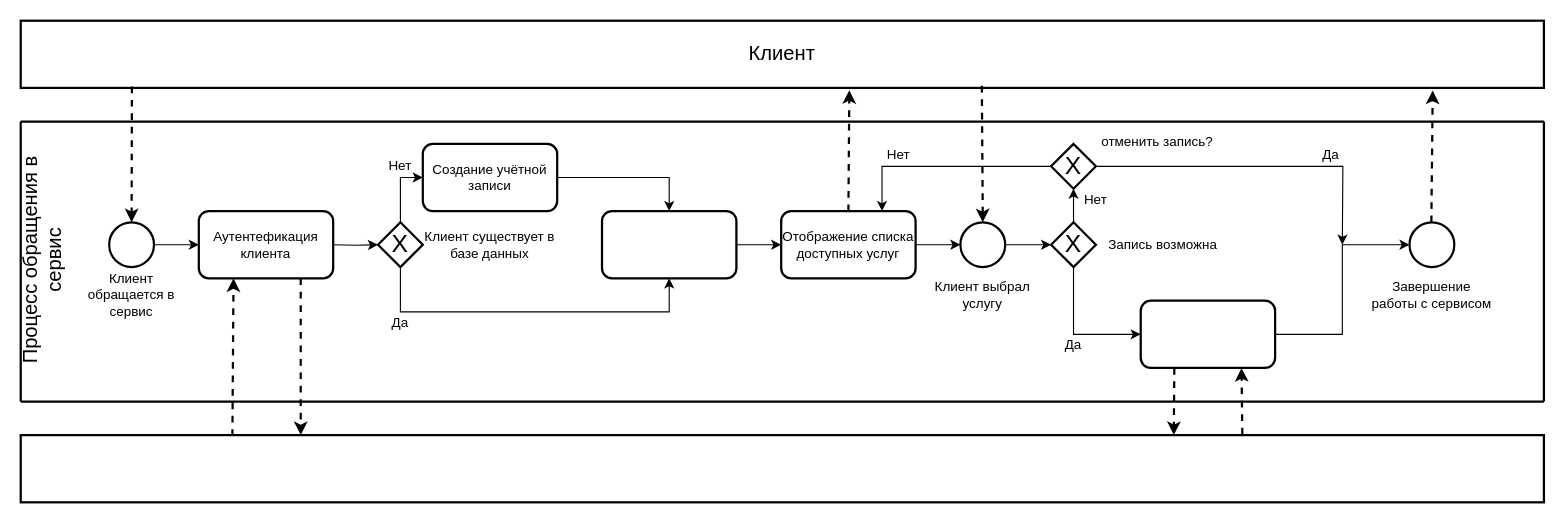
The diagram is 1566 pixels wide and 522 high, and some of its shapes have lost their labels. Each missing label, with the centre of its shape:
"Авторизация клиента" goes at pixel 668 244.
"База данных" goes at pixel 781 468.
"Запись на занятие" goes at pixel 1207 333.
